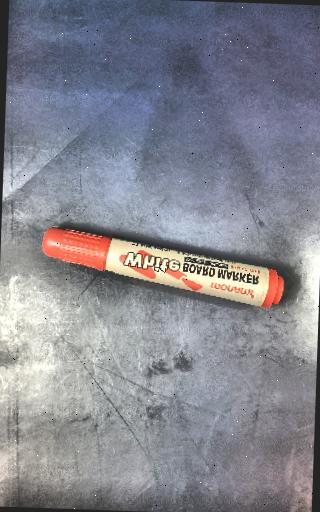marcador rojo: (43, 228, 283, 308)
